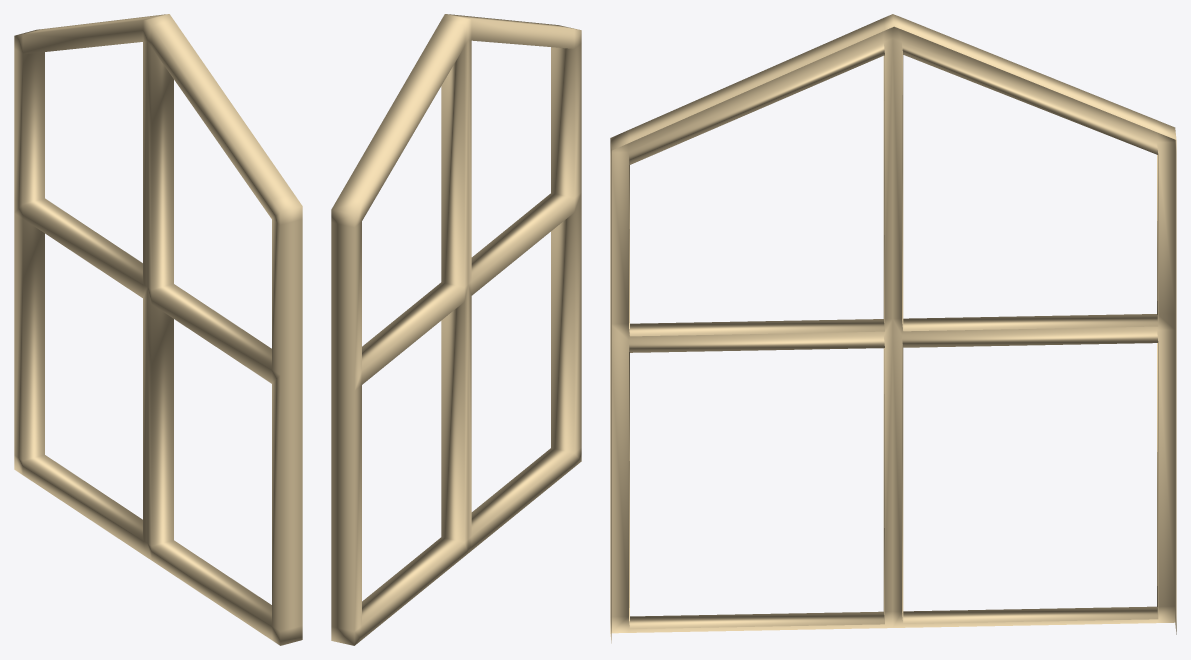
Rendered from Window_Close.fbx.
The picture shows the model from 3 angles, left to right: view 1: azimuth 30°, elevation 25°; view 2: azimuth 150°, elevation 25°; view 3: azimuth 270°, elevation 25°; orthographic projection. The views are drawn at different scales.
Visible parts, largest first — view 1: Window_Close; view 2: Window_Close; view 3: Window_Close.
Boxes of the visible parts, left/top/right/bottom form: Window_Close: left=14, top=14, right=302, bottom=645; Window_Close: left=331, top=14, right=581, bottom=645; Window_Close: left=610, top=14, right=1176, bottom=643.
Size of the model in its own units: 0.0475 by 0.5872 by 0.4906.
